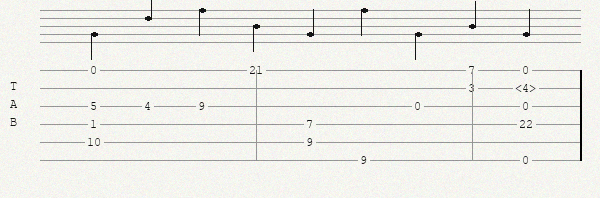0: (90, 64, 101, 76), (414, 100, 425, 112), (522, 154, 533, 166), (522, 100, 533, 112), (522, 64, 533, 76)
1: (90, 118, 101, 130)
10: (87, 136, 105, 148)
21: (249, 64, 267, 76)
22: (519, 118, 537, 130)
3: (468, 82, 479, 94)
4: (144, 100, 155, 112)
5: (90, 100, 101, 112)
7: (306, 118, 317, 130), (468, 64, 479, 76)
9: (198, 100, 209, 112), (306, 136, 317, 148), (360, 154, 371, 166)
harmonic: (515, 82, 540, 95)
